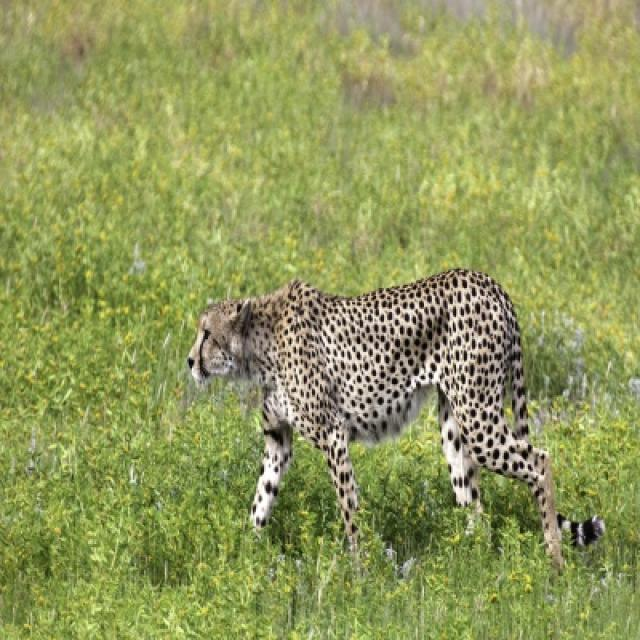Cheetah: (186, 269, 563, 573)
